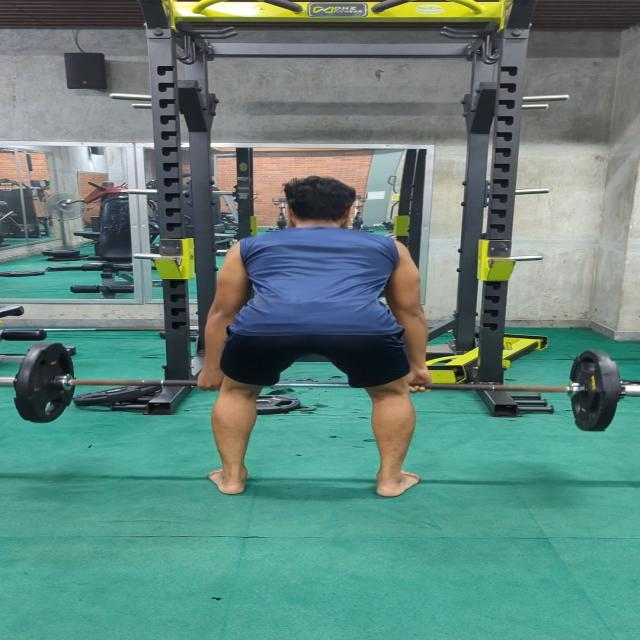Normal_Deadlifts: (196, 174, 436, 499)
